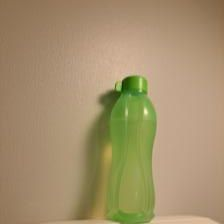bottle: (102, 74, 158, 222)
